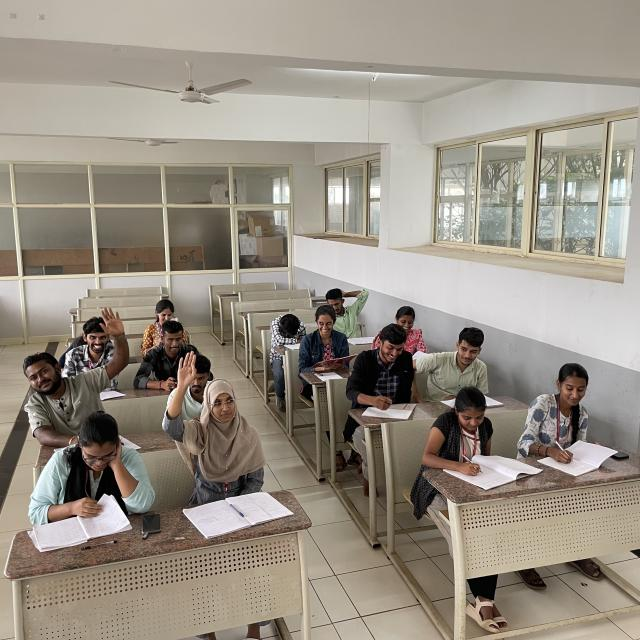Hand Rising: (165, 352, 262, 486), (19, 306, 129, 420)
Reading: (32, 410, 136, 532), (305, 310, 356, 366)
Sleeping: (268, 309, 306, 343)
Using Phone: (136, 321, 182, 390)
Writing: (422, 388, 533, 482), (524, 362, 604, 468), (352, 326, 416, 418)
